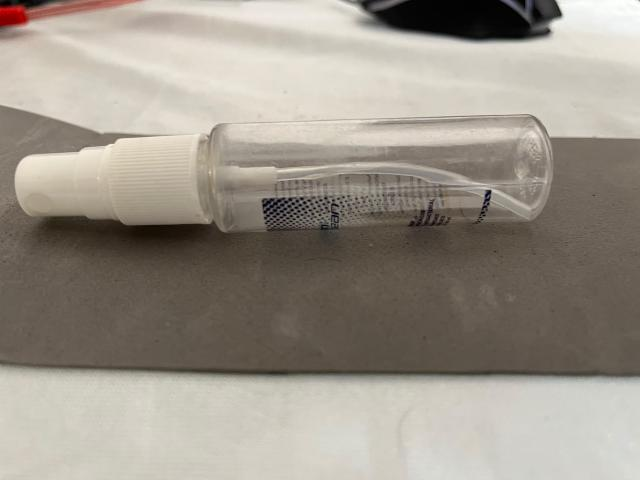PET: (7, 76, 581, 284)
